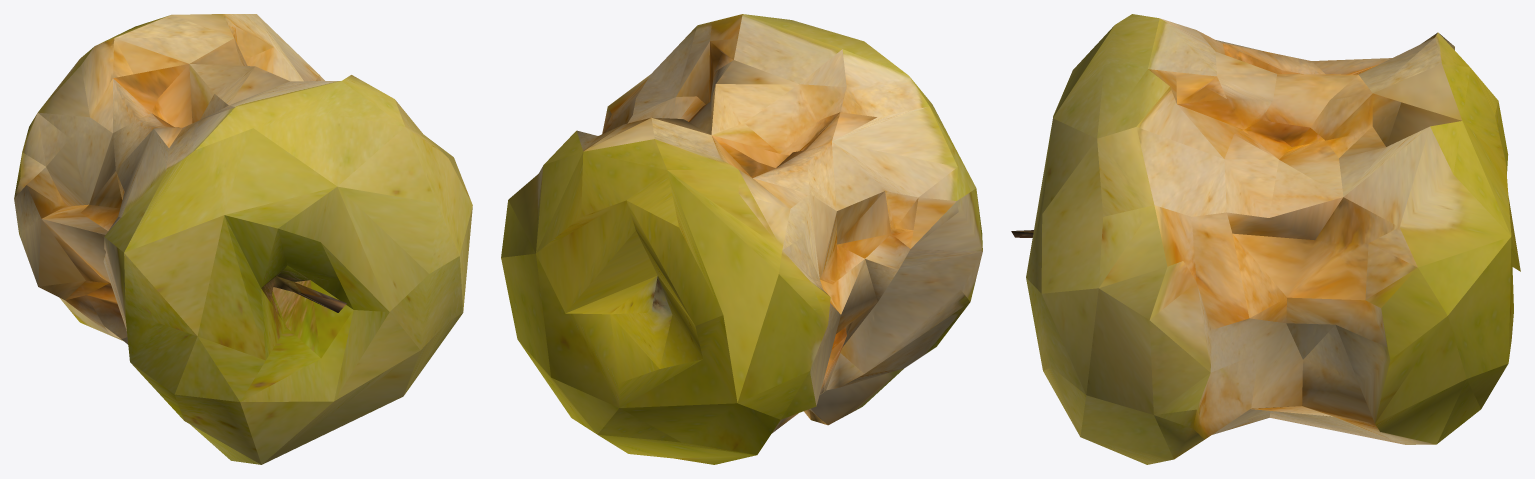
Rendered from bitten_apple_mid_lod_025.obj.
The picture shows the model from 3 angles, left to right: view 1: azimuth 30°, elevation 25°; view 2: azimuth 150°, elevation 25°; view 3: azimuth 270°, elevation 25°; orthographic projection. The views are drawn at different scales.
Size of the model in its own units: 0.8324 by 0.8144 by 0.8995.
Materials: 1 (1 with a texture image).
